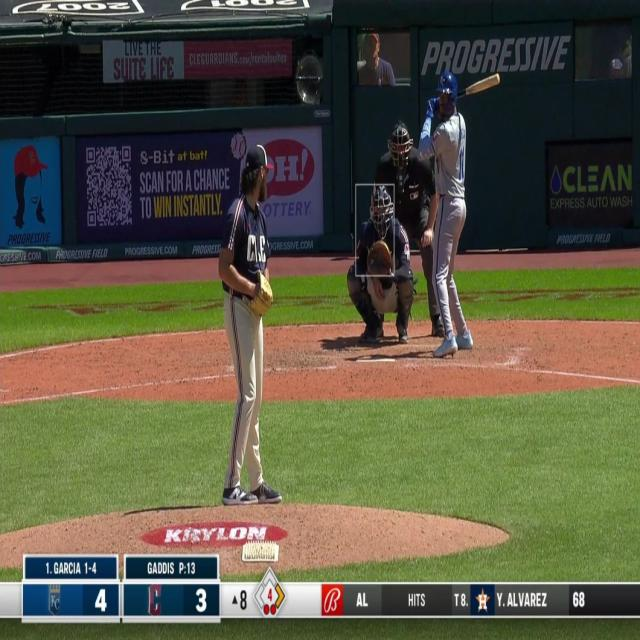Player: (204, 116, 292, 519)
